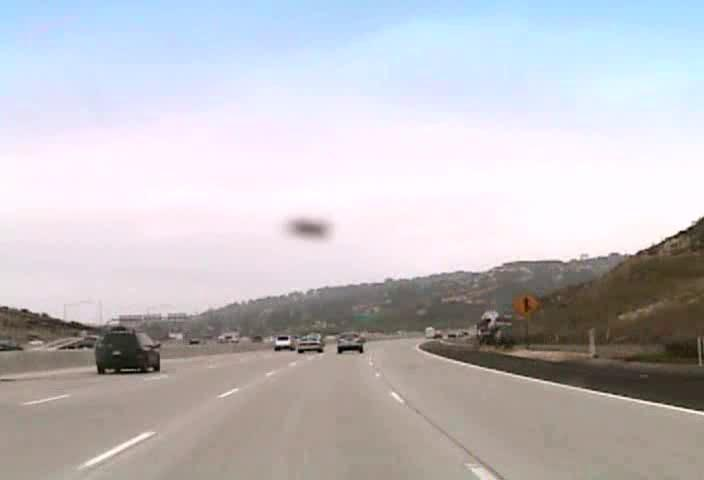merge: (512, 291, 539, 318)
